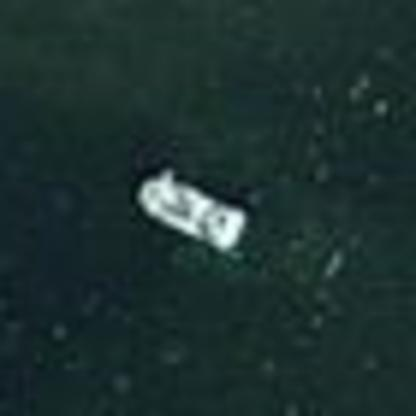ship: (126, 160, 255, 258)
